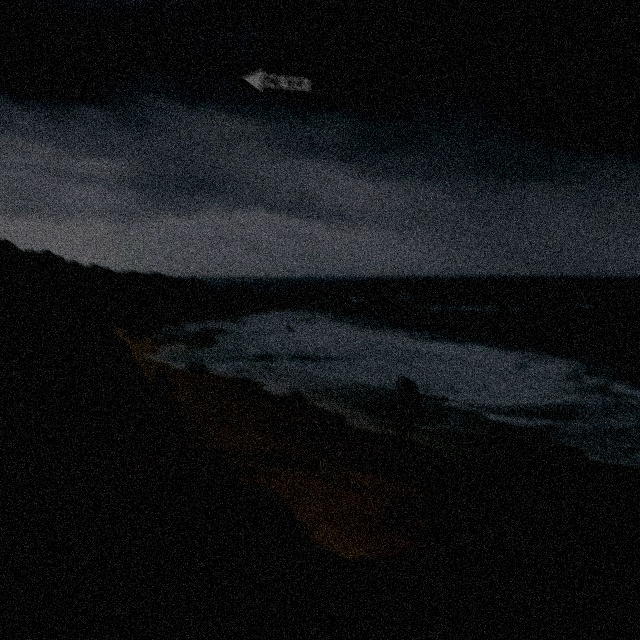ONE_WAY_ left: (234, 64, 316, 96)
